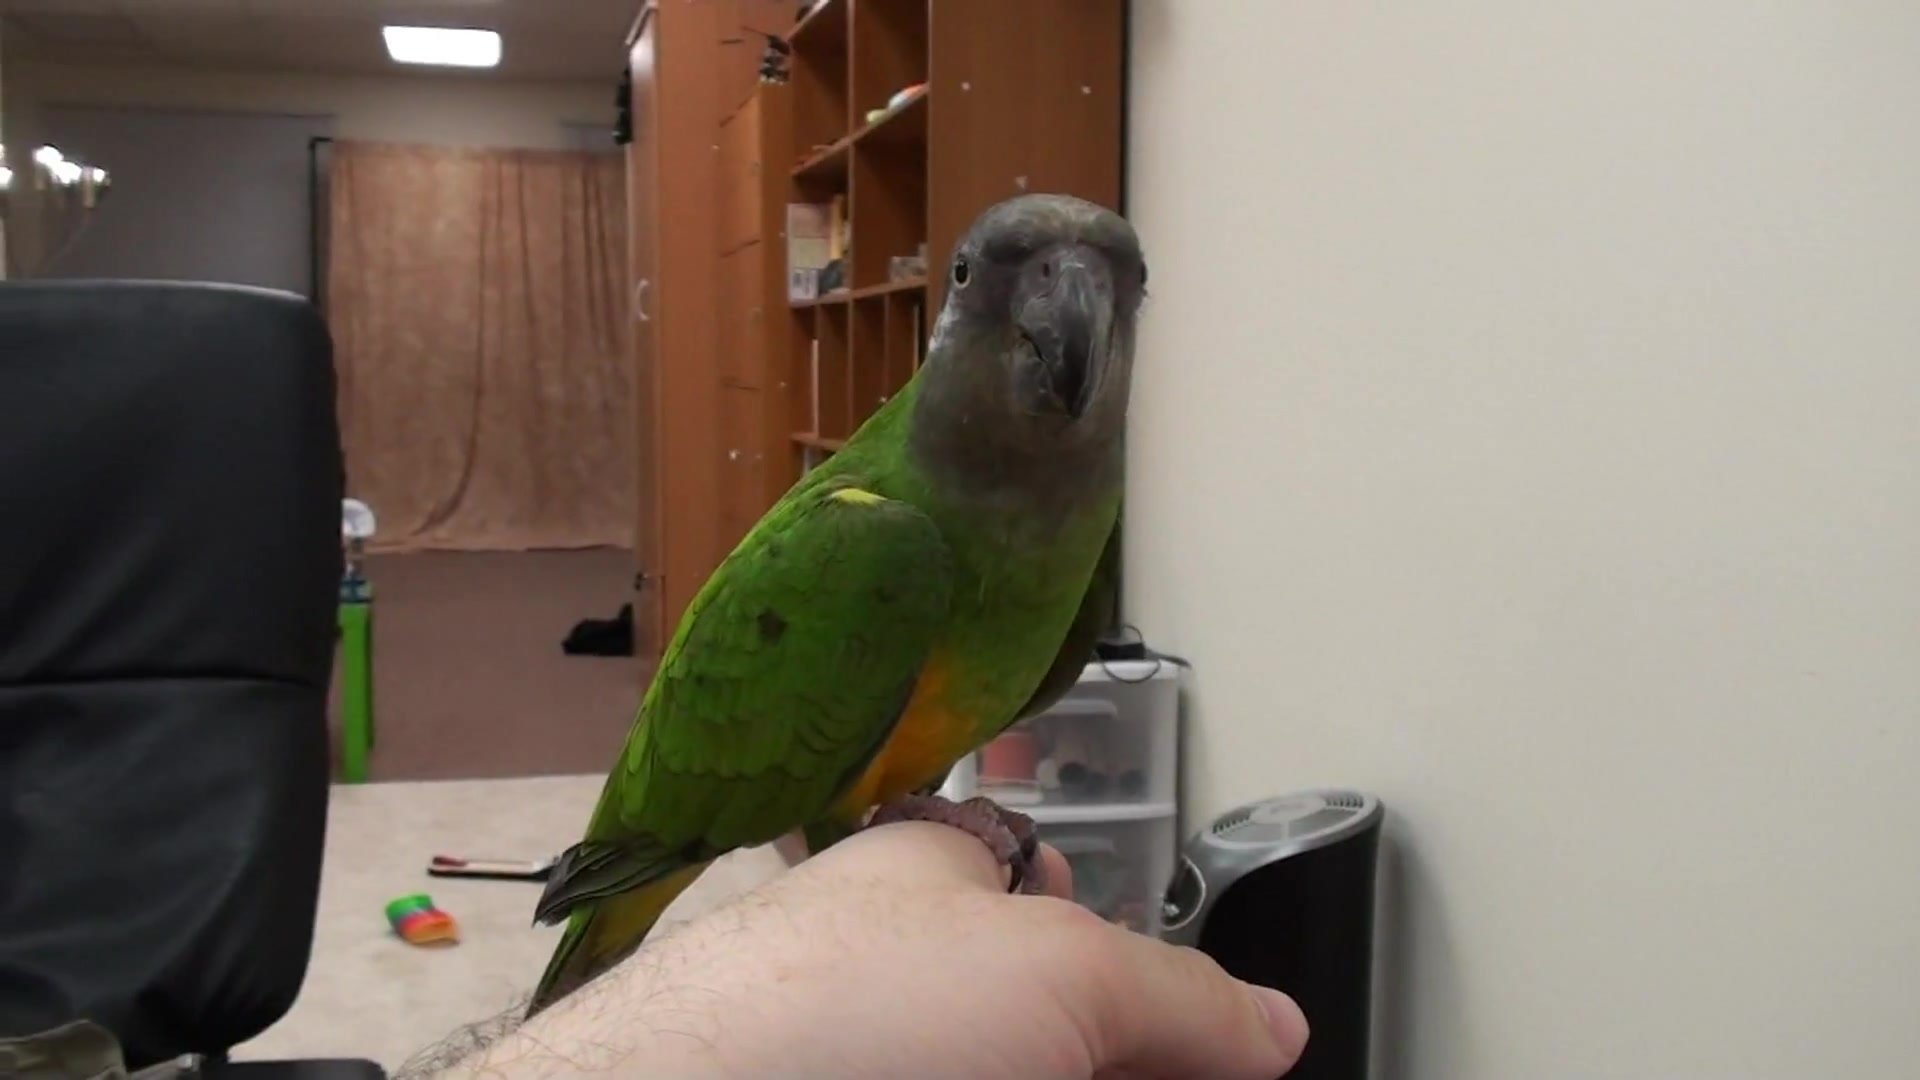bird: (525, 193, 1151, 1022)
